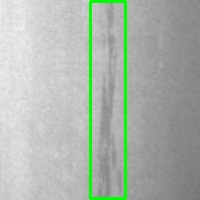inclusion: (90, 1, 125, 198)
